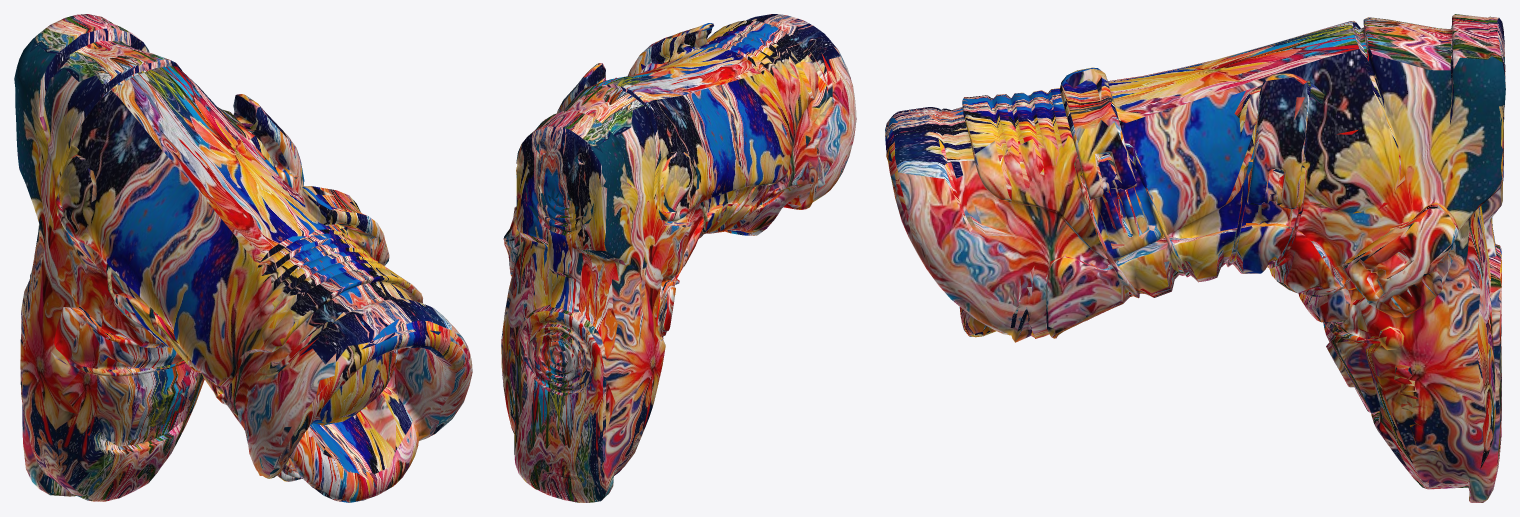
Rendered from si_nmaahc_ski-boots-worn-by-seba-johnson.glb.
The picture shows the model from 3 angles, left to right: view 1: azimuth 30°, elevation 25°; view 2: azimuth 150°, elevation 25°; view 3: azimuth 270°, elevation 25°; orthographic projection. The views are drawn at different scales.
Visible parts, largest first — view 1: A; view 2: A; view 3: A.
Boxes of the visible parts, bbox=[...] form: A: bbox=[14, 14, 472, 502]; A: bbox=[501, 14, 856, 502]; A: bbox=[885, 14, 1505, 502].
Bounding box in the file's own units: 0.7213 × 1.67 × 2.
1 material, 1 textured.
